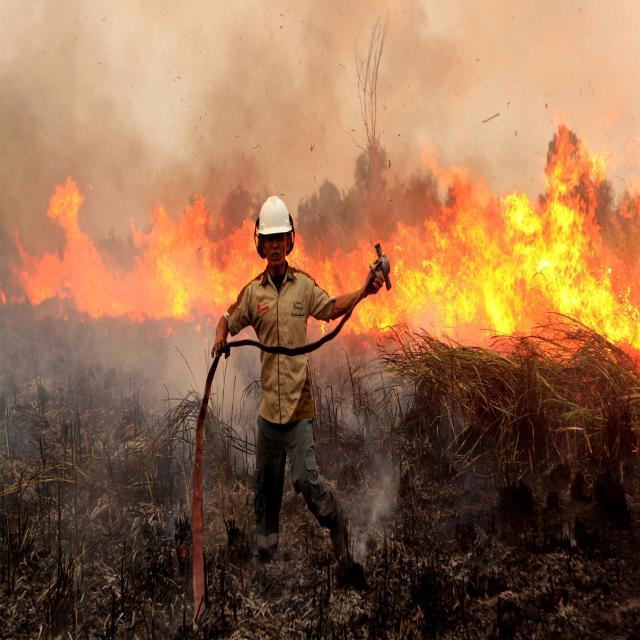Fire: (337, 146, 640, 339), (18, 162, 214, 315), (498, 157, 638, 350), (306, 219, 394, 340), (405, 186, 479, 325), (210, 202, 256, 308)
Smoke: (240, 23, 477, 144), (31, 318, 200, 472), (10, 0, 180, 139), (328, 376, 406, 554), (213, 336, 253, 467)
